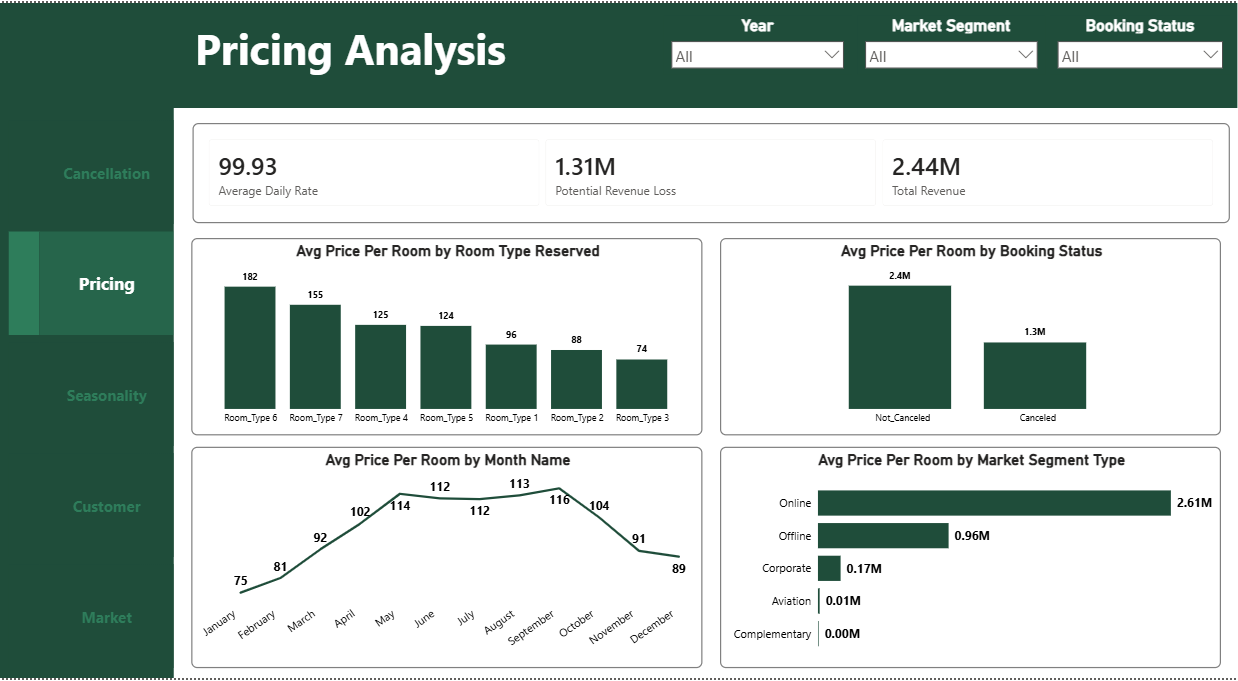

What the dashboard file says about the page in this screenshot:
{"tool":"powerbi","page":{"name":"Pricing","canvas":[1650,900],"ordinal":1},"visuals":[{"type":"clusteredColumnChart","title":"Avg Price Per Room by Room Type Reserved","fields":{"Category":["Room.room_type_reserved"],"Y":["Avg(Hotel Reservations.avg_price_per_room)"]},"box":[255,313.3,681.7,263.3],"z":0},{"type":"lineChart","title":"Avg Price Per Room by Month Name","fields":{"Category":["Date.Month Name"],"Y":["Avg(Hotel Reservations.avg_price_per_room)"]},"box":[255,591.7,681.7,295],"z":1000},{"type":"clusteredColumnChart","title":"Avg Price Per Room by Booking Status","fields":{"Category":["Booking Status.booking_status"],"Y":["Sum(Hotel Reservations.avg_price_per_room)"]},"box":[960,313.3,668.3,263.3],"z":2000},{"type":"clusteredBarChart","title":"Avg Price Per Room by Market Segment Type","fields":{"Category":["Market.market_segment_type"],"Y":["Sum(Hotel Reservations.avg_price_per_room)"]},"box":[960,591.7,668.3,295],"z":3000},{"type":"shape","box":[165,0,1485,140],"z":4000},{"type":"shape","box":[0,0,231.7,900],"z":5000},{"type":"pageNavigator","box":[53.3,156.7,178.3,730],"z":6000},{"type":"pageNavigator","box":[11.7,156.7,41.7,730],"z":7000},{"type":"textbox","box":[255,16.7,693.3,105],"z":8000},{"type":"slicer","title":"Year","fields":{"Values":["Date.Year"]},"box":[885,16.7,250,78.3],"z":9000},{"type":"slicer","title":"Market Segment","fields":{"Values":["Market.market_segment_type"]},"box":[1142.5,16.7,250,78.3],"z":10000},{"type":"slicer","title":"Booking Status","fields":{"Values":["Booking Status.booking_status"]},"box":[1400,16.7,240,78.3],"z":11000},{"type":"cardVisual","fields":{"Data":["Measure.Avg Room price","Measure.Potential Revenue Loss","Measure.Total Revenue"]},"box":[256.7,160,1383.3,133.3],"z":12000}]}

Visuals, with their boxes on the page's 1650x900 design canvas (x1, y1, x2, y2). These are canvas units, not pixel positions in the 1238x681 screenshot, which may show the page scaled, cropped or inside an application window:
"Avg Price Per Room by Room Type Reserved" clusteredColumnChart: bbox(255, 313, 937, 577)
"Avg Price Per Room by Month Name" lineChart: bbox(255, 592, 937, 887)
"Avg Price Per Room by Booking Status" clusteredColumnChart: bbox(960, 313, 1628, 577)
"Avg Price Per Room by Market Segment Type" clusteredBarChart: bbox(960, 592, 1628, 887)
shape: bbox(165, 0, 1650, 140)
shape: bbox(0, 0, 232, 900)
pageNavigator: bbox(53, 157, 232, 887)
pageNavigator: bbox(12, 157, 53, 887)
textbox: bbox(255, 17, 948, 122)
"Year" slicer: bbox(885, 17, 1135, 95)
"Market Segment" slicer: bbox(1142, 17, 1392, 95)
"Booking Status" slicer: bbox(1400, 17, 1640, 95)
cardVisual - Measure.Avg Room price x Measure.Potential Revenue Loss: bbox(257, 160, 1640, 293)
